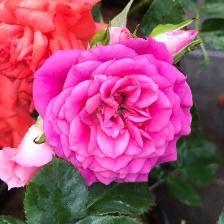rose: (32, 36, 197, 188), (1, 1, 104, 145)
